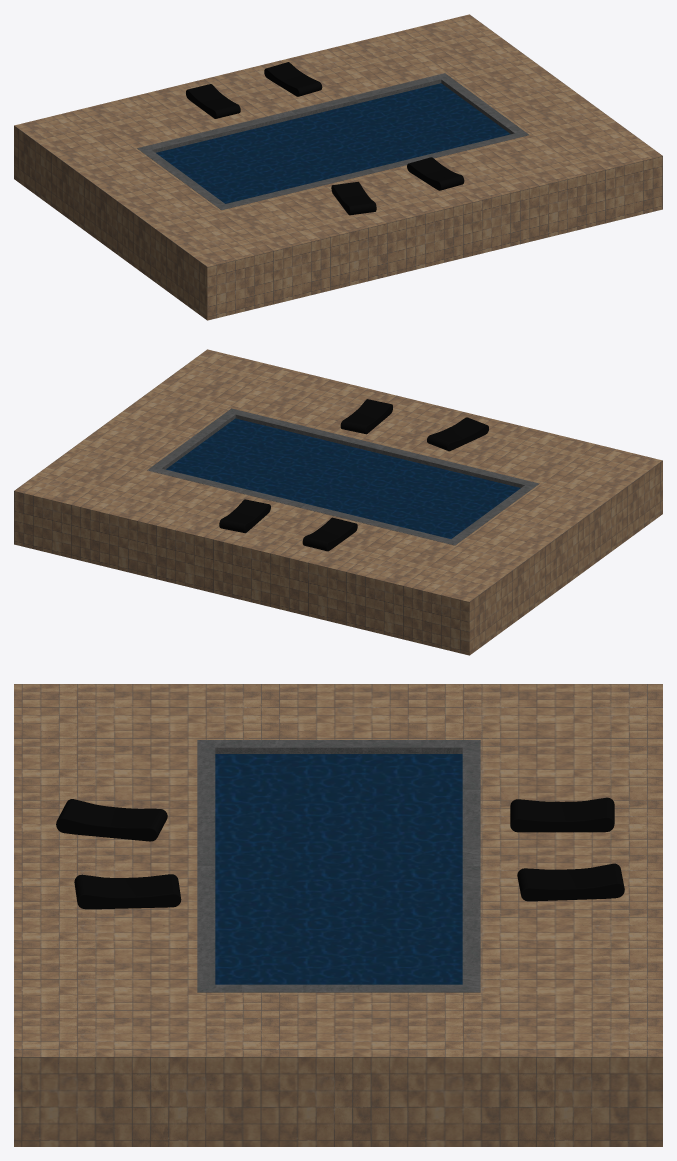
File: pool.glb
3 renders of one model, top to bottom at view 1: azimuth 30°, elevation 25°; view 2: azimuth 150°, elevation 25°; view 3: azimuth 270°, elevation 25°, orthographic. The views are drawn at different scales.
Parts seen in each view (by area): view 1: Ground, Pool_Water, Border, Seat03, Seat04, Seat01, Seat02; view 2: Ground, Pool_Water, Border, Seat02, Seat01, Seat04, Seat03; view 3: Ground, Pool_Water, Border, Seat04, Seat02, Seat03, Seat01.
Boxes of the visible parts, left/top/right/bottom form: Ground: left=14, top=14, right=662, bottom=320; Pool_Water: left=156, top=83, right=510, bottom=203; Border: left=137, top=73, right=529, bottom=210; Seat03: left=264, top=62, right=322, bottom=96; Seat04: left=186, top=84, right=240, bottom=118; Seat01: left=407, top=157, right=464, bottom=190; Seat02: left=331, top=181, right=376, bottom=215; Ground: left=14, top=349, right=662, bottom=655; Pool_Water: left=166, top=418, right=520, bottom=538; Border: left=147, top=408, right=539, bottom=545; Seat02: left=427, top=417, right=488, bottom=451; Seat01: left=340, top=399, right=392, bottom=434; Seat04: left=302, top=517, right=357, bottom=551; Seat03: left=219, top=499, right=270, bottom=533; Ground: left=14, top=684, right=662, bottom=1146; Pool_Water: left=215, top=754, right=462, bottom=984; Border: left=197, top=740, right=480, bottom=992; Seat04: left=510, top=797, right=614, bottom=832; Seat02: left=56, top=799, right=167, bottom=841; Seat03: left=517, top=863, right=624, bottom=901; Seat01: left=74, top=874, right=181, bottom=909.
Size of the model in its own units: 12.46 by 1.64 by 9.17.
5 materials, 4 textured.
